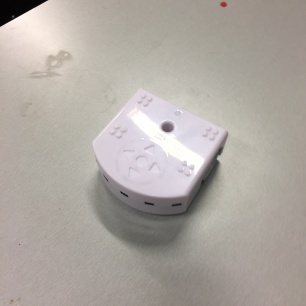thymio: (87, 85, 230, 217)
